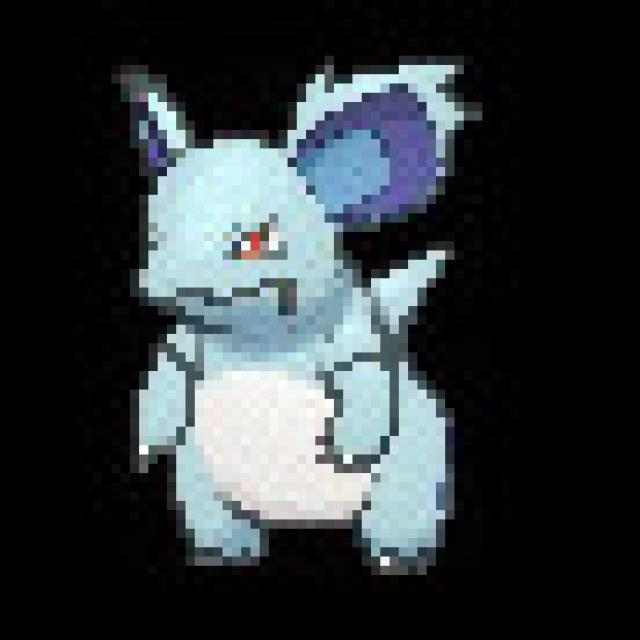Nidorina: (128, 53, 462, 571)
